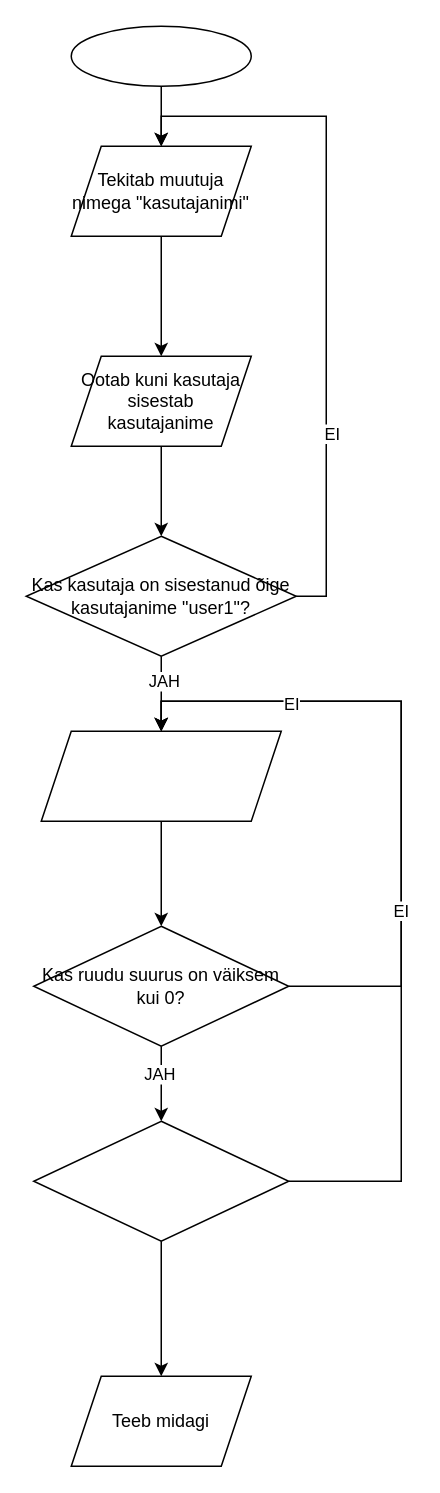
Image size: 440x1493. Some labels were removed from this diagram. The shapes that lost their labels are listed below. From the top down, each one's centre as x and y in pixels, then its label:
the point at 160,55: Algus
the point at 160,775: kuva kasutajale tekst kui suurt ruutu ta tahab?
the point at 160,1180: Kas ruudu suurus on suurem kui 20?
